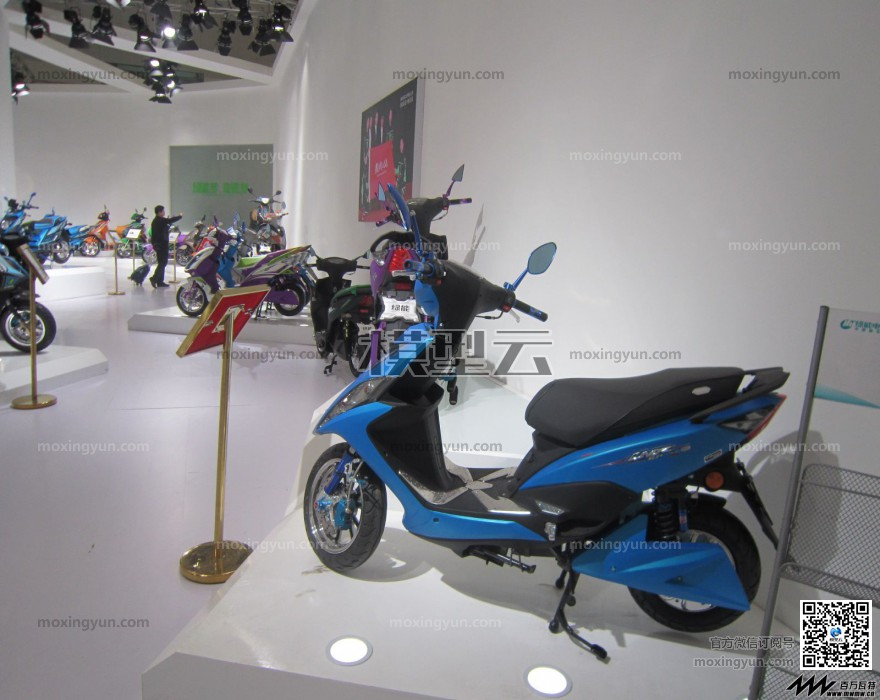电动车: (306, 229, 789, 660)
